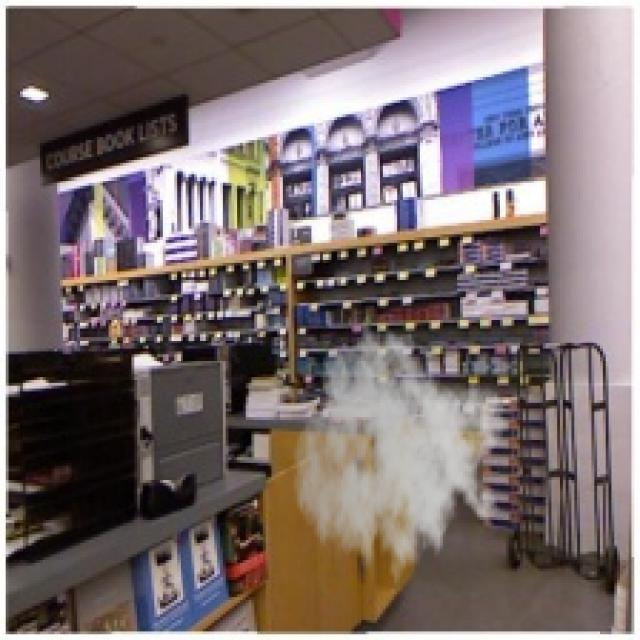smoke: (291, 320, 506, 600)
